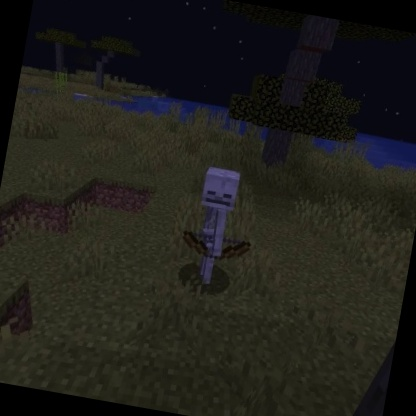skeleton: (170, 159, 267, 295)
